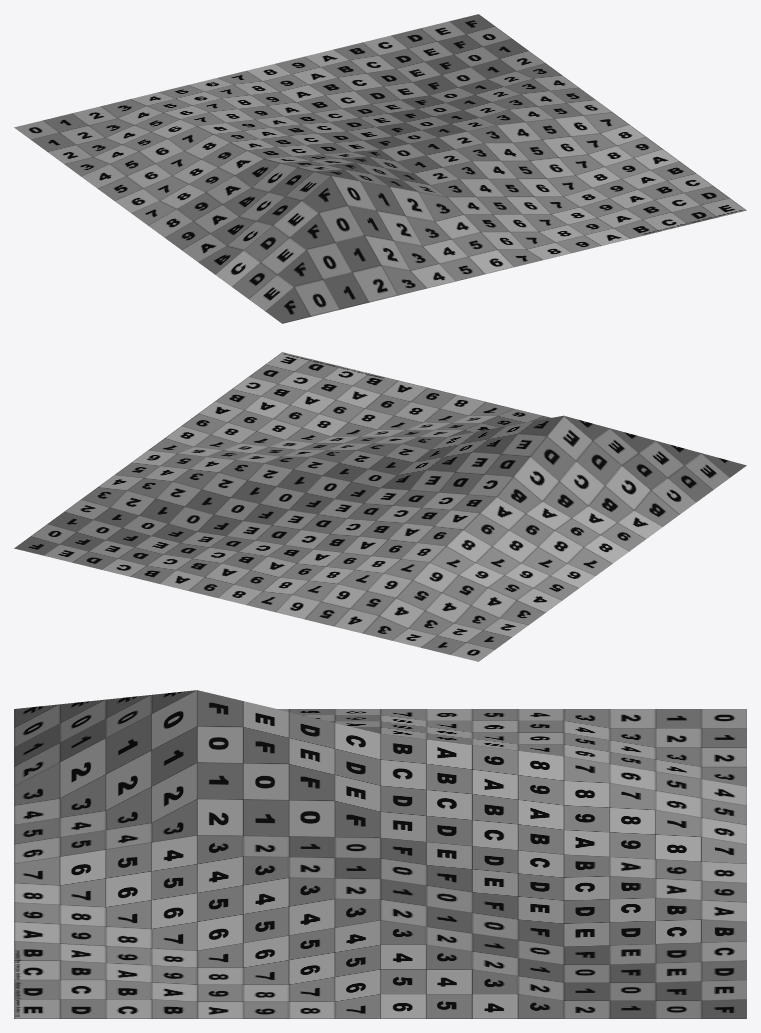
The model's file is FloorTile3.fbx.
3 renders of one model, top to bottom at view 1: azimuth 30°, elevation 25°; view 2: azimuth 150°, elevation 25°; view 3: azimuth 270°, elevation 25°, orthographic. The views are drawn at different scales.
Parts seen in each view (by area): view 1: pPlane12; view 2: pPlane12; view 3: pPlane12.
Boxes of the visible parts, box(x1,y1,x2,y2) form: pPlane12: box(14, 14, 746, 323); pPlane12: box(14, 352, 746, 661); pPlane12: box(14, 690, 746, 1018).
Size of the model in its own units: 1 by 0.1594 by 1.
1 material, 1 textured.
